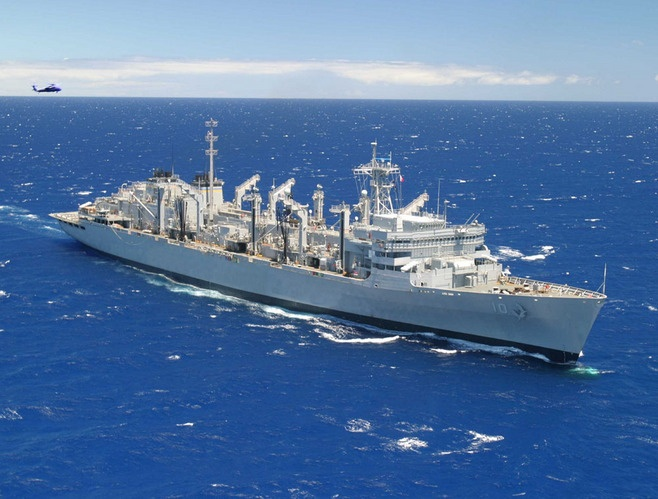airplane: (28, 83, 60, 96)
warship: (50, 117, 610, 375)
